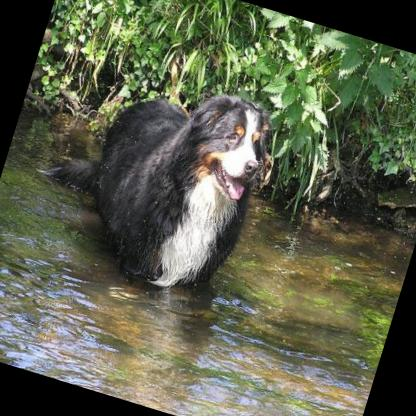Bernese_mountain_dog: (9, 40, 280, 310)
